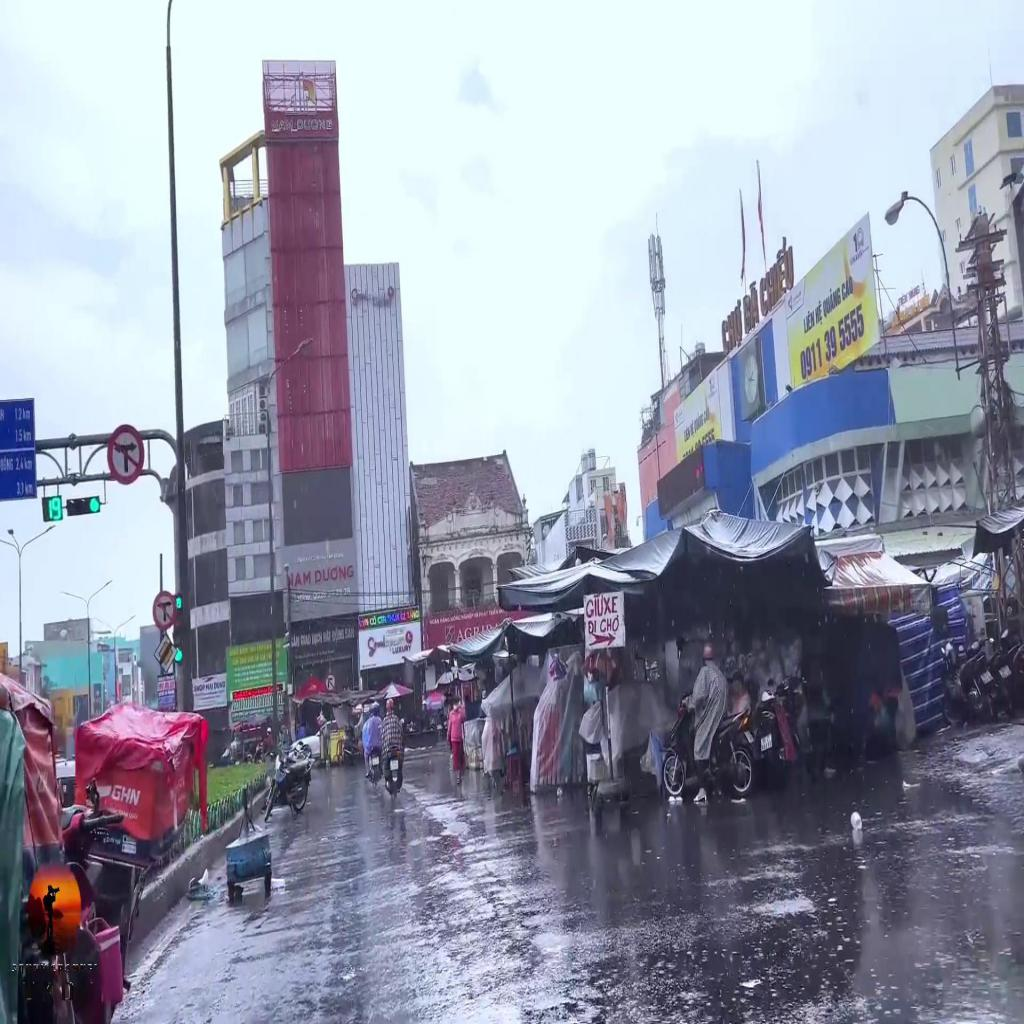cam_re_phai: (326, 673, 336, 691)
cam_re_trai_va_phai: (108, 424, 144, 485), (153, 590, 176, 630)
duong_het_uu_tien: (154, 634, 177, 672)
khac: (0, 450, 37, 500), (1, 399, 34, 449)
